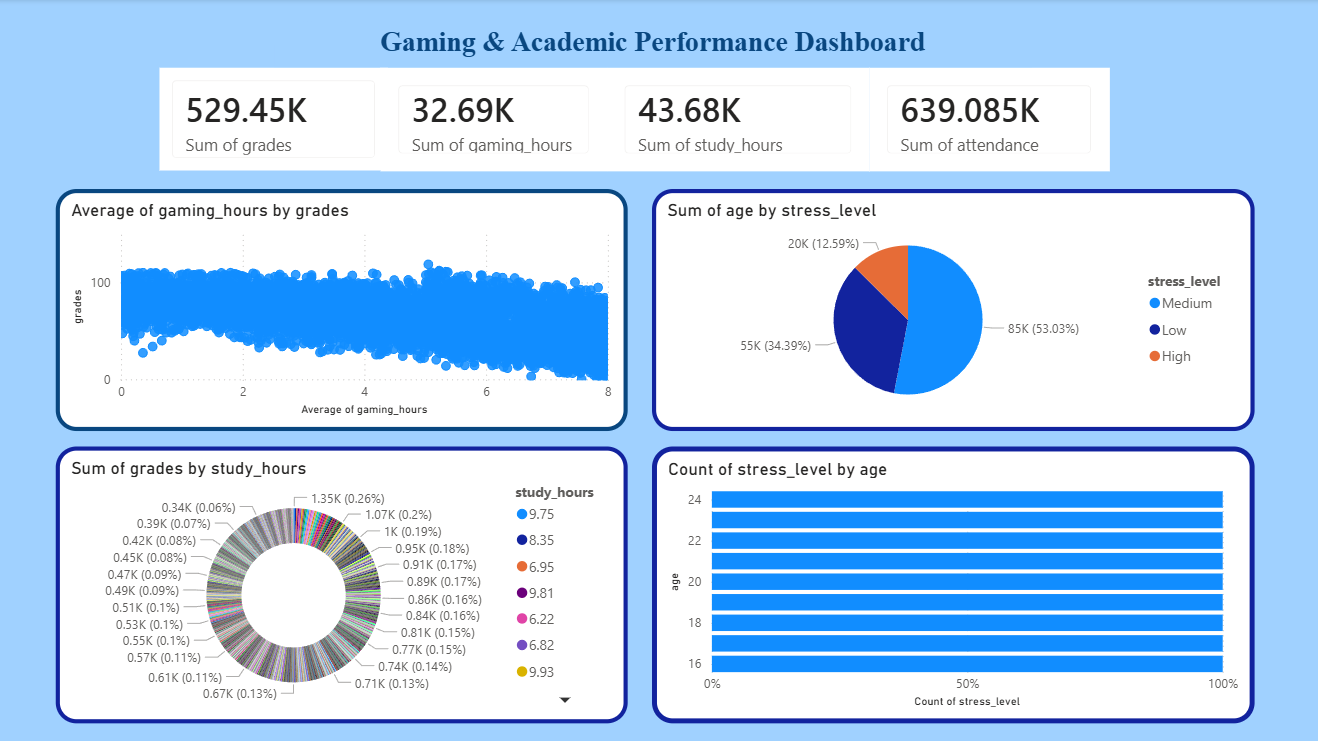

The dashboard page shown, as its layout file describes it:
{"tool":"powerbi","page":{"name":"Page 1","canvas":[1280,720],"ordinal":0},"visuals":[{"type":"cardVisual","fields":{"Data":["Sum(Gaming_Academic_Performance.grades)"]},"box":[152.3,61.7,230.5,109.8],"z":0},{"type":"cardVisual","fields":{"Data":["Sum(Gaming_Academic_Performance.gaming_hours)"]},"box":[370.5,65.9,218.2,100.2],"z":1000},{"type":"cardVisual","fields":{"Data":["Sum(Gaming_Academic_Performance.study_hours)"]},"box":[588.7,65.9,253.9,100.2],"z":2000},{"type":"cardVisual","fields":{"Data":["Sum(Gaming_Academic_Performance.attendance)"]},"box":[842.5,65.9,231.9,100.2],"z":3000},{"type":"scatterChart","fields":{"X":["Avg(Gaming_Academic_Performance.gaming_hours)"],"Y":["Gaming_Academic_Performance.grades"]},"box":[56.3,183.9,551.6,233.3],"z":4000},{"type":"pieChart","fields":{"Category":["Gaming_Academic_Performance.stress_level"],"Y":["Sum(Gaming_Academic_Performance.age)"]},"box":[632.6,183.9,581.8,233.3],"z":5000},{"type":"hundredPercentStackedBarChart","fields":{"Y":["CountNonNull(Gaming_Academic_Performance.stress_level)"],"Category":["Gaming_Academic_Performance.age"]},"box":[632.6,432.2,581.8,267.6],"z":6000},{"type":"textbox","box":[267.6,22,730,43.9],"z":7000},{"type":"donutChart","fields":{"Category":["Gaming_Academic_Performance.study_hours"],"Y":["Sum(Gaming_Academic_Performance.grades)"]},"box":[56.3,432.2,551.6,267.6],"z":8000}]}

Visuals, with their boxes in screenshot pixels (x1, y1, x2, y2), scaled from the page's 1280x720 canvas onto the 1318x741 screenshot:
cardVisual - Sum(Gaming_Academic_Performance.grades): (x1=157, y1=63, x2=394, y2=177)
cardVisual - Sum(Gaming_Academic_Performance.gaming_hours): (x1=381, y1=68, x2=606, y2=171)
cardVisual - Sum(Gaming_Academic_Performance.study_hours): (x1=606, y1=68, x2=868, y2=171)
cardVisual - Sum(Gaming_Academic_Performance.attendance): (x1=868, y1=68, x2=1106, y2=171)
scatterChart - Avg(Gaming_Academic_Performance.gaming_hours) x Gaming_Academic_Performance.grades: (x1=58, y1=189, x2=626, y2=429)
pieChart - Gaming_Academic_Performance.stress_level x Sum(Gaming_Academic_Performance.age): (x1=651, y1=189, x2=1250, y2=429)
hundredPercentStackedBarChart - CountNonNull(Gaming_Academic_Performance.stress_level) x Gaming_Academic_Performance.age: (x1=651, y1=445, x2=1250, y2=720)
textbox: (x1=276, y1=23, x2=1027, y2=68)
donutChart - Gaming_Academic_Performance.study_hours x Sum(Gaming_Academic_Performance.grades): (x1=58, y1=445, x2=626, y2=720)
